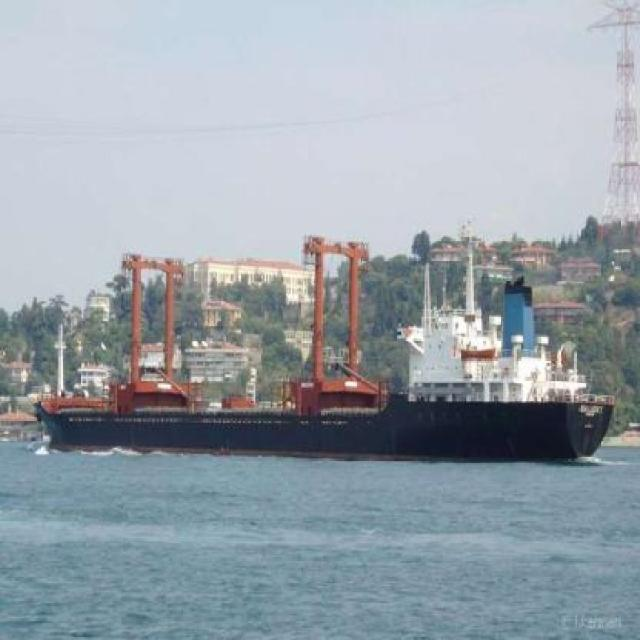ship: (32, 240, 618, 455)
